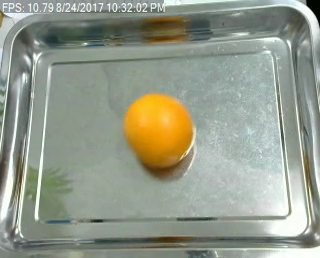Orange: (123, 92, 193, 169)
